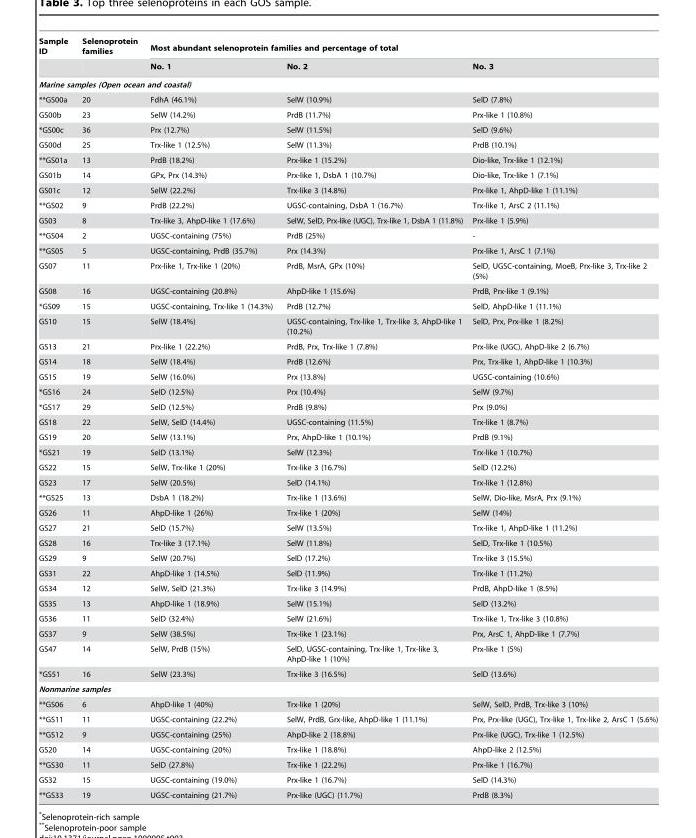table: (37, 36, 657, 798)
table column: (467, 36, 657, 798), (278, 36, 467, 798), (143, 36, 278, 798), (74, 36, 143, 798), (37, 36, 74, 798)
table column header: (37, 36, 657, 75)
table projected row header: (37, 75, 657, 91), (37, 681, 657, 696)
table row: (37, 258, 657, 283), (37, 313, 657, 338), (37, 641, 657, 666), (37, 36, 657, 58), (37, 58, 657, 75), (37, 75, 657, 91), (37, 91, 657, 107), (37, 227, 657, 243), (37, 353, 657, 369), (37, 489, 657, 505), (37, 610, 657, 626), (37, 756, 657, 772), (37, 107, 657, 122), (37, 122, 657, 137), (37, 137, 657, 152), (37, 152, 657, 167), (37, 167, 657, 182), (37, 182, 657, 197), (37, 197, 657, 212), (37, 212, 657, 227), (37, 243, 657, 258), (37, 283, 657, 298), (37, 298, 657, 313), (37, 338, 657, 353), (37, 369, 657, 384), (37, 384, 657, 399), (37, 399, 657, 414), (37, 414, 657, 429), (37, 429, 657, 444), (37, 444, 657, 459), (37, 459, 657, 474), (37, 474, 657, 489), (37, 505, 657, 520), (37, 520, 657, 535), (37, 535, 657, 550), (37, 550, 657, 565), (37, 565, 657, 580), (37, 580, 657, 595), (37, 595, 657, 610), (37, 626, 657, 641), (37, 666, 657, 681), (37, 681, 657, 696), (37, 696, 657, 711), (37, 711, 657, 726), (37, 726, 657, 741), (37, 741, 657, 756), (37, 772, 657, 787), (37, 787, 657, 798)
table spanning cell: (143, 36, 657, 58), (74, 36, 143, 75), (37, 36, 74, 75)
